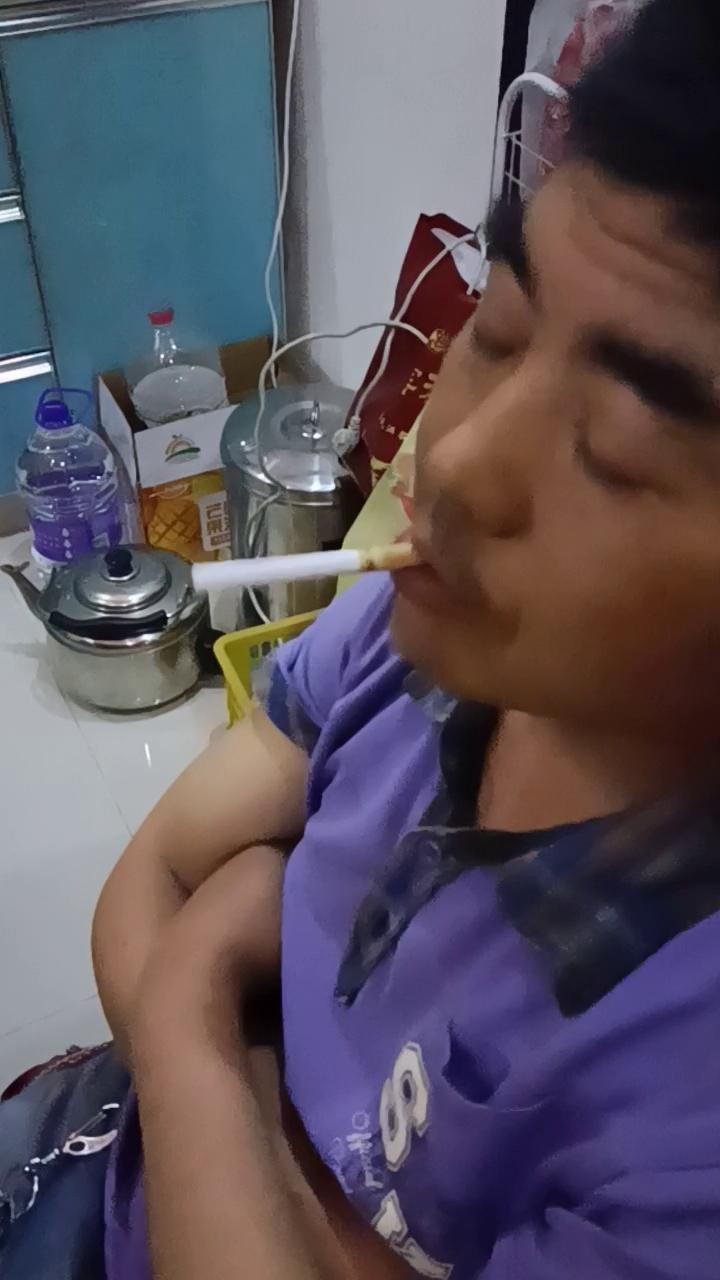smoke: (191, 538, 434, 596)
